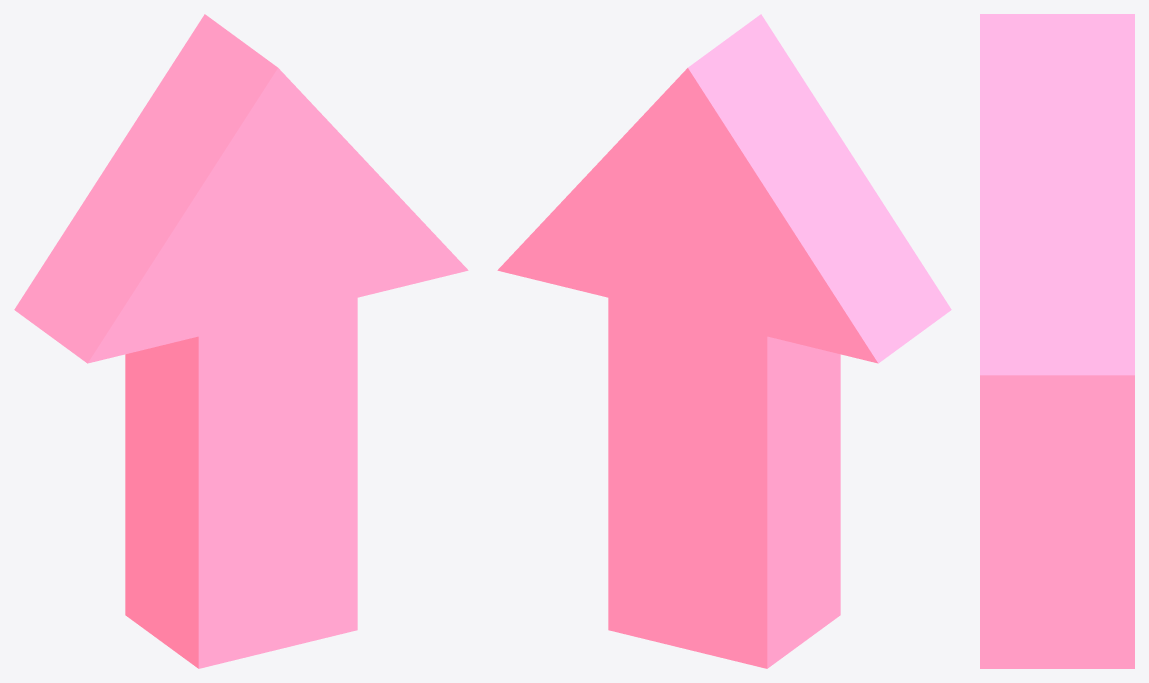
File: Health.glb
The picture shows the model from 3 angles, left to right: view 1: azimuth 30°, elevation 25°; view 2: azimuth 150°, elevation 25°; view 3: azimuth 270°, elevation 25°; orthographic projection. The views are drawn at different scales.
Visible parts, largest first — view 1: Health_Arrow; view 2: Health_Arrow; view 3: Health_Arrow.
Part boxes in pixels (box(x1,y1,x2,y2)): Health_Arrow: box(14, 14, 468, 668); Health_Arrow: box(497, 14, 951, 668); Health_Arrow: box(980, 14, 1134, 668).
Size of the model in its own units: 0.24 by 0.35 by 0.08.
